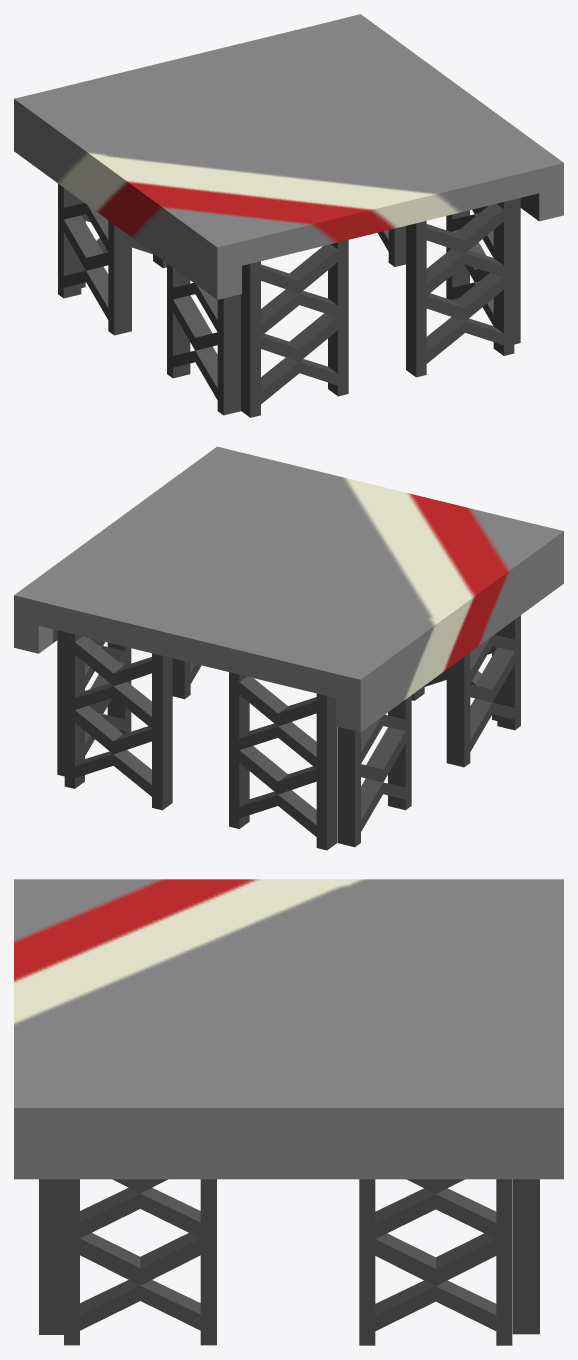
Rendered from Landing_Pad_04.fbx.
3 renders of one model, top to bottom at view 1: azimuth 30°, elevation 25°; view 2: azimuth 150°, elevation 25°; view 3: azimuth 270°, elevation 25°, orthographic. The views are drawn at different scales.
Parts seen in each view (by area): view 1: Pad_06, Scaf_01_base; view 2: Pad_06, Scaf_01_base; view 3: Pad_06, Scaf_01_base.
Part boxes in pixels (x1=…): Pad_06: x1=14, y1=14, x2=563, y2=299; Scaf_01_base: x1=58, y1=183, x2=520, y2=417; Pad_06: x1=14, y1=446, x2=563, y2=732; Scaf_01_base: x1=57, y1=615, x2=520, y2=850; Pad_06: x1=14, y1=879, x2=563, y2=1179; Scaf_01_base: x1=39, y1=1179, x2=539, y2=1345.
Bounding box in the file's own units: 19.63 × 10.14 × 19.93.
